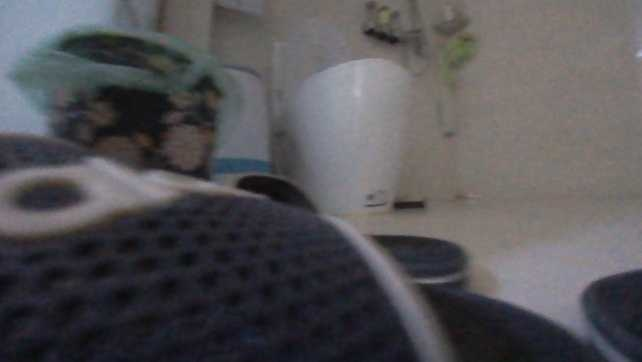toilet: (266, 18, 413, 219)
